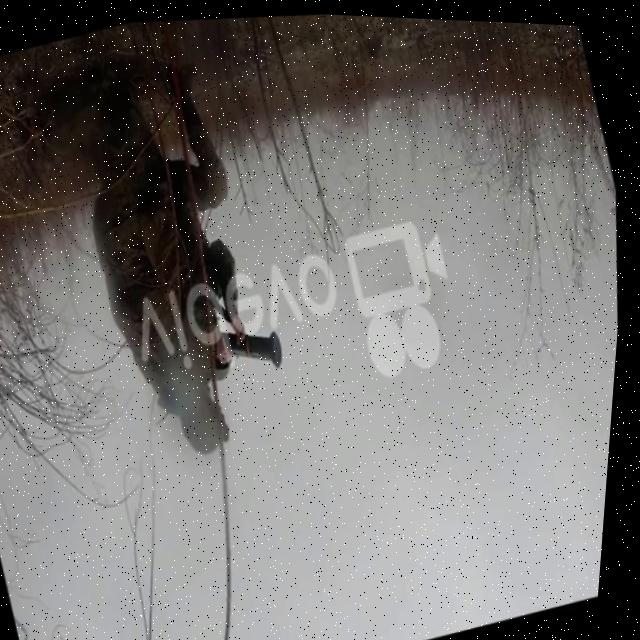rocket: (215, 311, 295, 383)
